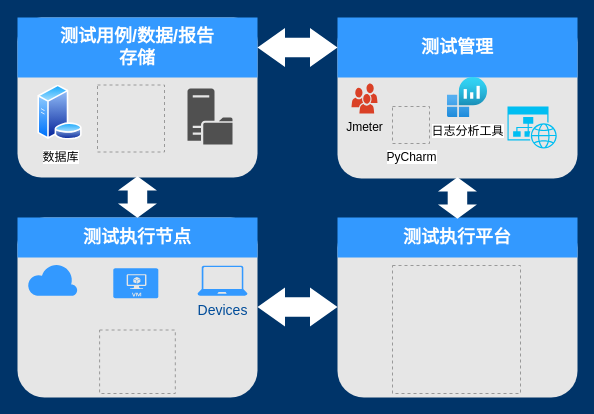
Image size: 594x414. Some labels were removed from this diagram. Grey dashed boxes stand in for pictures. The centre of each missing label's shape, as x and y in pixels:
Cloud: (x=52, y=279)
Virtual Machine: (x=135, y=283)
Web管理平台: (x=532, y=127)
文件服务器: (x=209, y=116)
